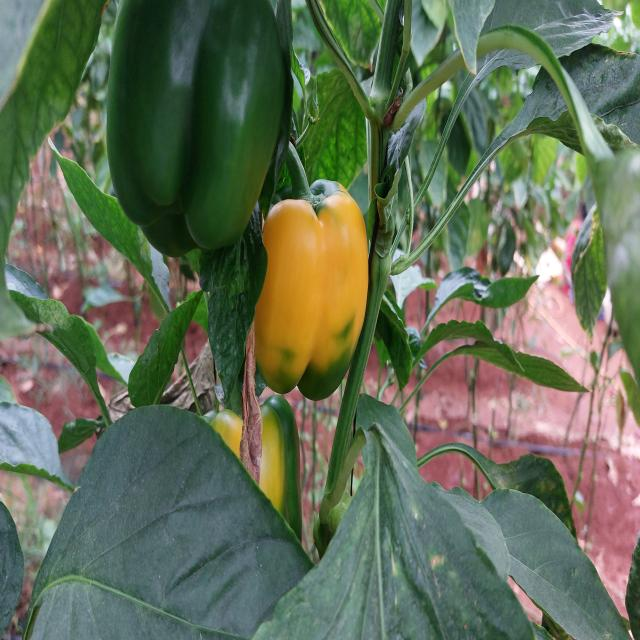Green--Not-ready-to-harvest: (103, 0, 286, 253), (266, 364, 352, 401)
Yellow-Ready-to-Harvest: (263, 192, 365, 356)
